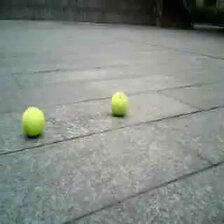tennis: (21, 107, 45, 137), (111, 92, 128, 116)
